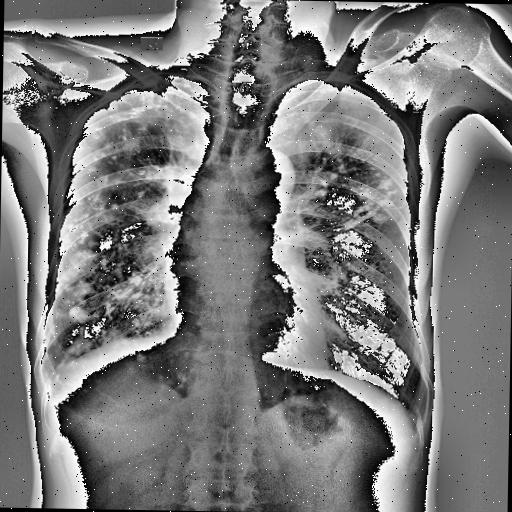0- Aortic enlargement: (230, 146, 296, 204)
10- Pleural effusion: (36, 352, 88, 402), (32, 337, 70, 401)
11- Pleural thickening: (40, 103, 193, 376), (334, 173, 398, 237), (106, 72, 196, 102), (36, 352, 88, 402), (32, 337, 70, 401), (113, 70, 189, 100), (112, 71, 162, 100)
13- Pulmonary fibrosis: (41, 85, 202, 363), (56, 91, 179, 363), (312, 144, 406, 234), (341, 173, 403, 243), (342, 204, 414, 236)
2- Calcification: (41, 85, 202, 363), (40, 103, 193, 376), (312, 144, 406, 234), (334, 173, 398, 237)
